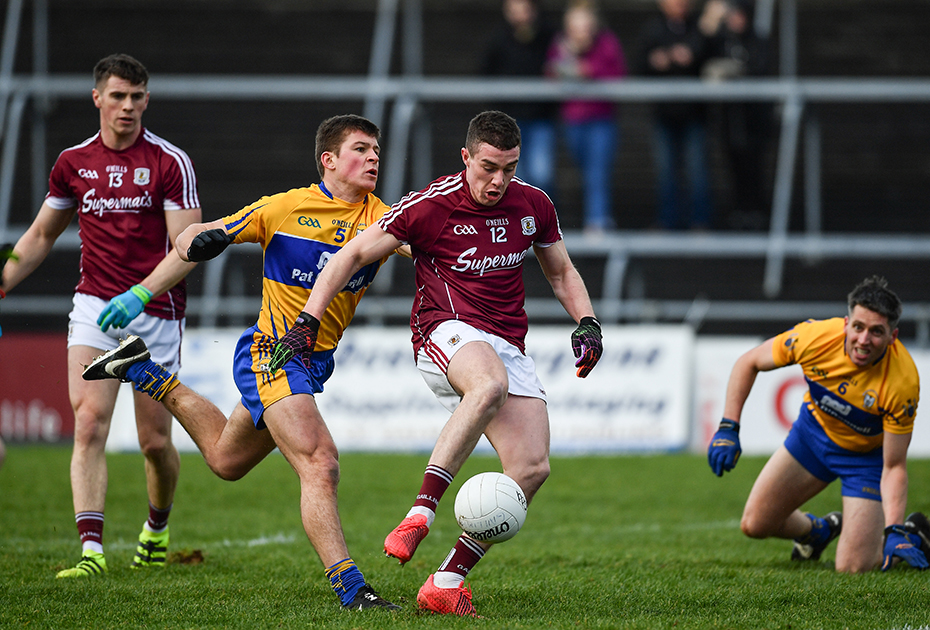ball: (457, 474, 531, 538)
player: (386, 106, 562, 540), (223, 103, 387, 539), (51, 55, 198, 493), (733, 260, 919, 562)
